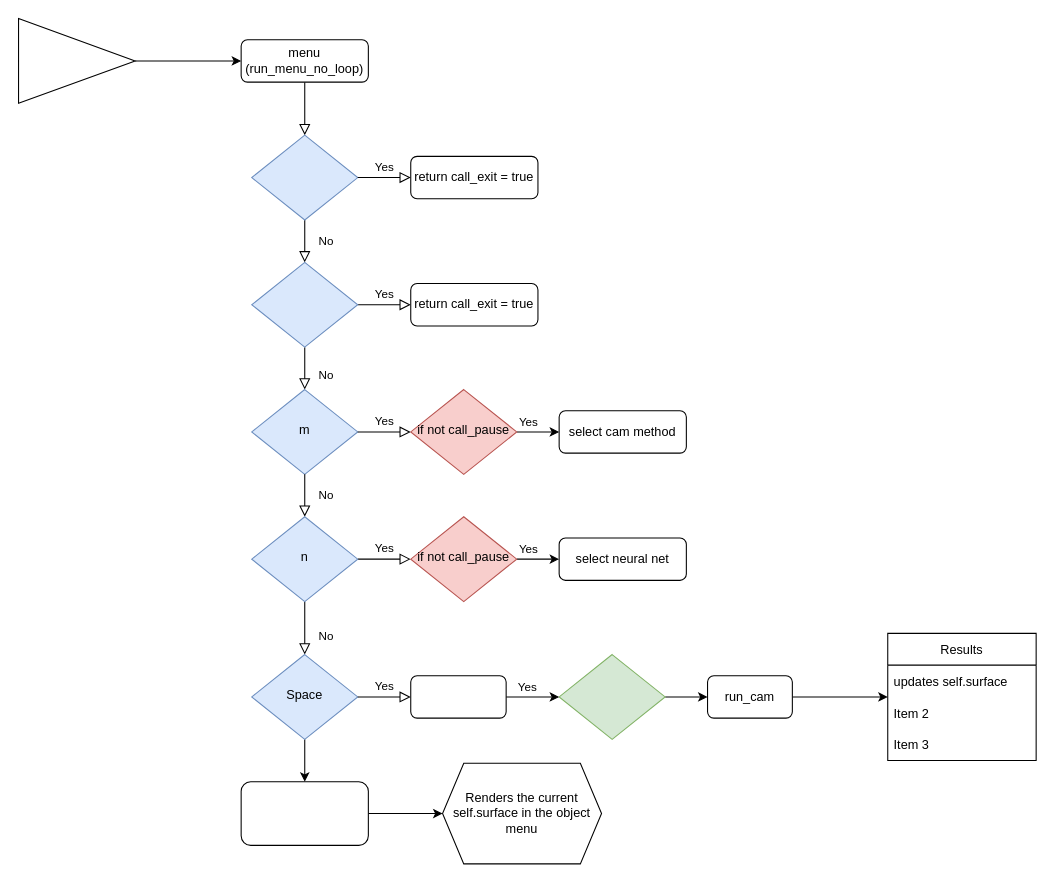
The diagram is 1055 pixels wide and 883 high, and some of its shapes have lost their labels. Each missing label, with the centre of its shape:
"call_pause = not call_pause" belongs at (x=458, y=696).
"Esc | q" belongs at (x=304, y=304).
"if call_pause" belongs at (x=611, y=696).
"input image" belongs at (x=76, y=60).
"menu.render()" belongs at (x=304, y=813).
"Quit" belongs at (x=304, y=177).
